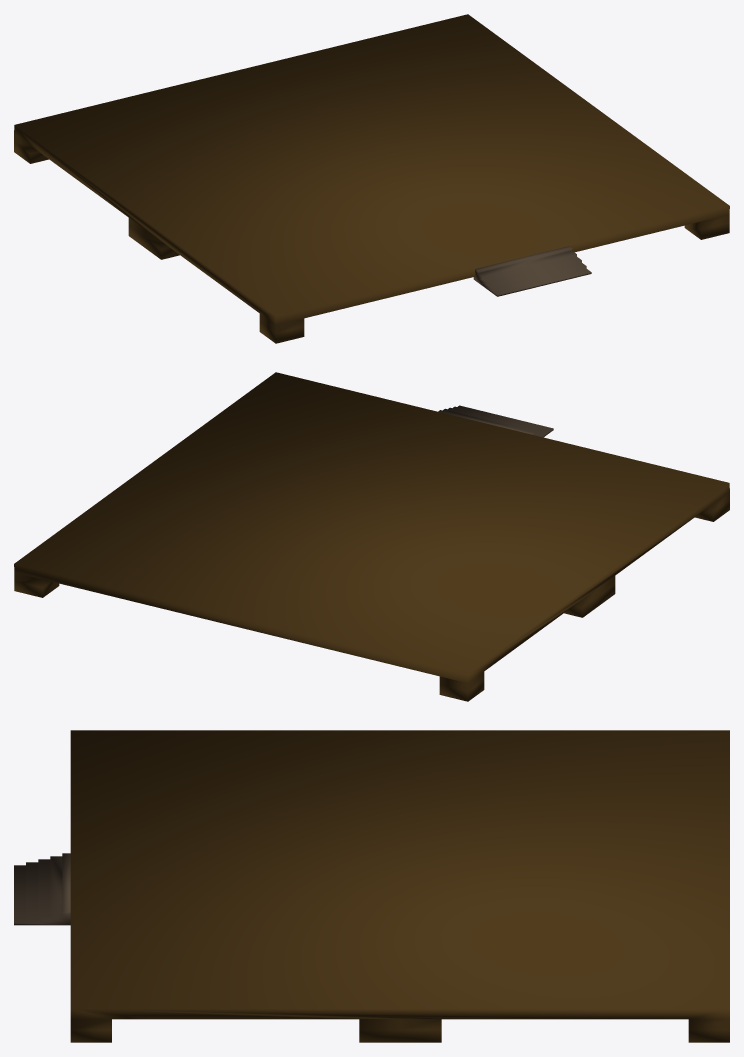
The model's file is Base Rumah.fbx.
The picture shows the model from 3 angles, top to bottom: view 1: azimuth 30°, elevation 25°; view 2: azimuth 150°, elevation 25°; view 3: azimuth 270°, elevation 25°; orthographic projection. The views are drawn at different scales.
Visible parts, largest first — view 1: base rumah; view 2: base rumah; view 3: base rumah.
Part boxes in pixels (left/top/right/bottom): base rumah: left=14, top=14, right=729, bottom=343; base rumah: left=14, top=372, right=729, bottom=701; base rumah: left=14, top=730, right=729, bottom=1042.
Size of the model in its own units: 5868 by 335 by 6367.
